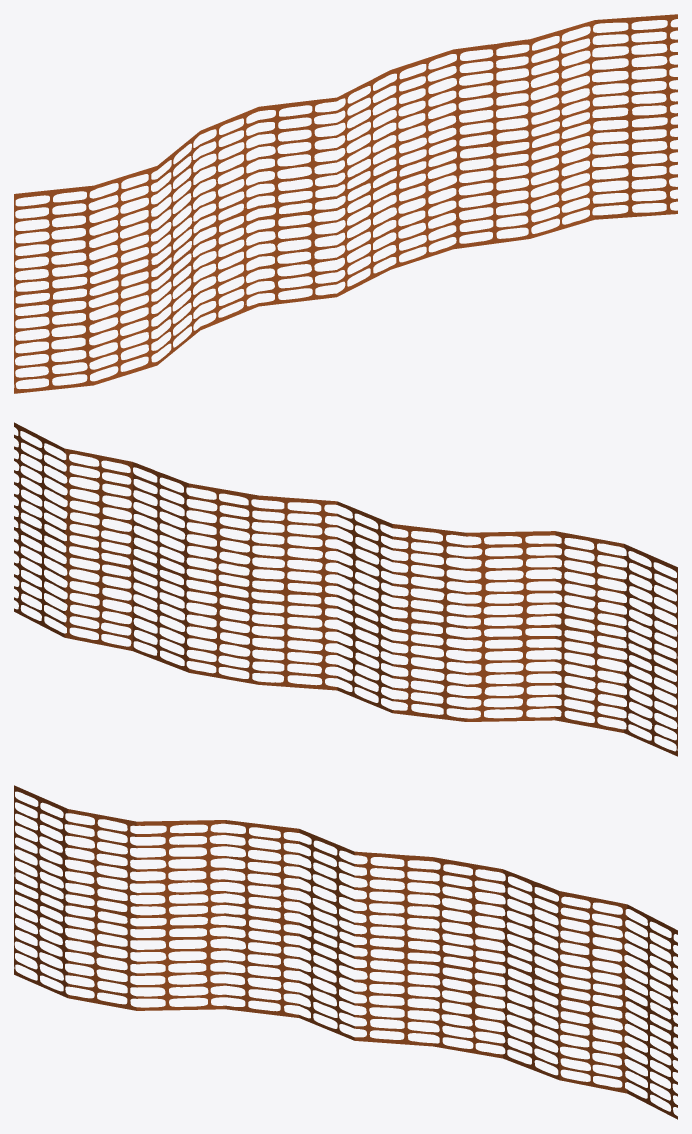
Rendered from m_SandFence.fbx.
3 views of the same model, one above another, from view 1: azimuth 30°, elevation 25°; view 2: azimuth 150°, elevation 25°; view 3: azimuth 330°, elevation 25° (orthographic). The views are drawn at different scales.
Visible parts, largest first — view 1: pPlane15; view 2: pPlane15; view 3: pPlane15.
Part boxes in pixels (x1,y1,x2,y2): pPlane15: (14, 14, 677, 393); pPlane15: (14, 422, 677, 756); pPlane15: (14, 785, 677, 1119).
Size of the model in its own units: 5.66 by 1.59 by 0.7131.
1 material, 1 textured.
